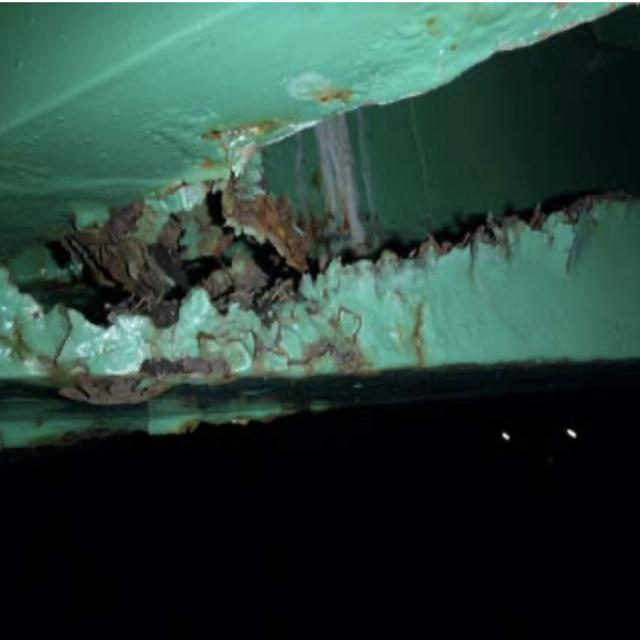corrosion: (52, 113, 368, 418)
